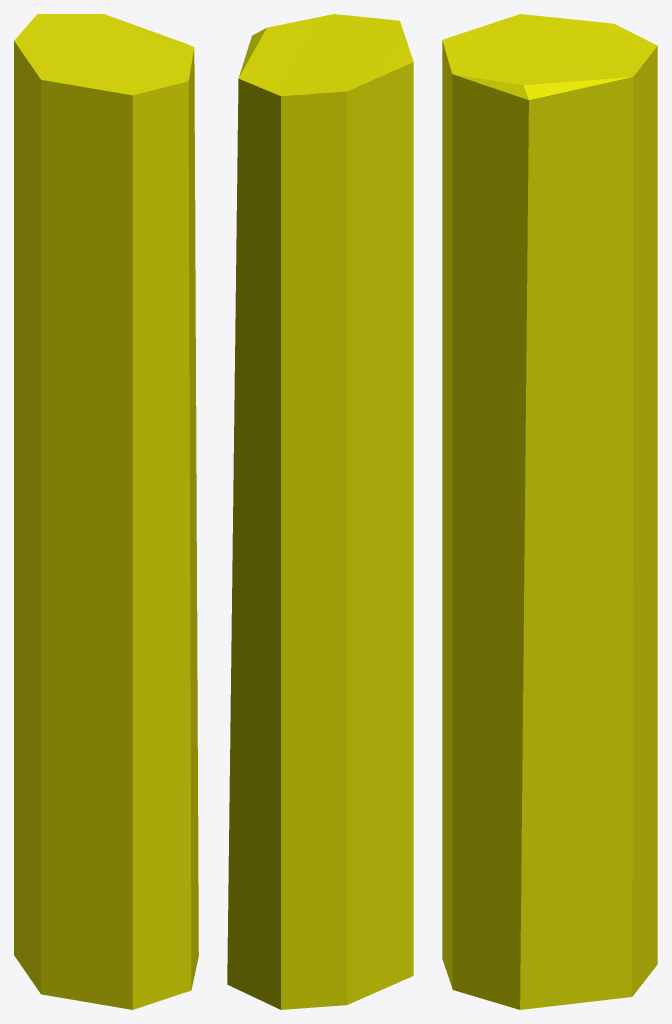
3 renders of one model, left to right at view 1: azimuth 30°, elevation 25°; view 2: azimuth 150°, elevation 25°; view 3: azimuth 270°, elevation 25°, orthographic.
Parts seen in each view (by area): view 1: rock_001; view 2: rock_001; view 3: rock_001.
Part boxes in pixels (x1=…): rock_001: x1=14, y1=14, x2=198, y2=1009; rock_001: x1=227, y1=14, x2=413, y2=1009; rock_001: x1=442, y1=14, x2=657, y2=1009.
Bounding box in the file's own units: 0.434 × 2.41 × 0.5115.
Materials: 1 (1 with a texture image).
